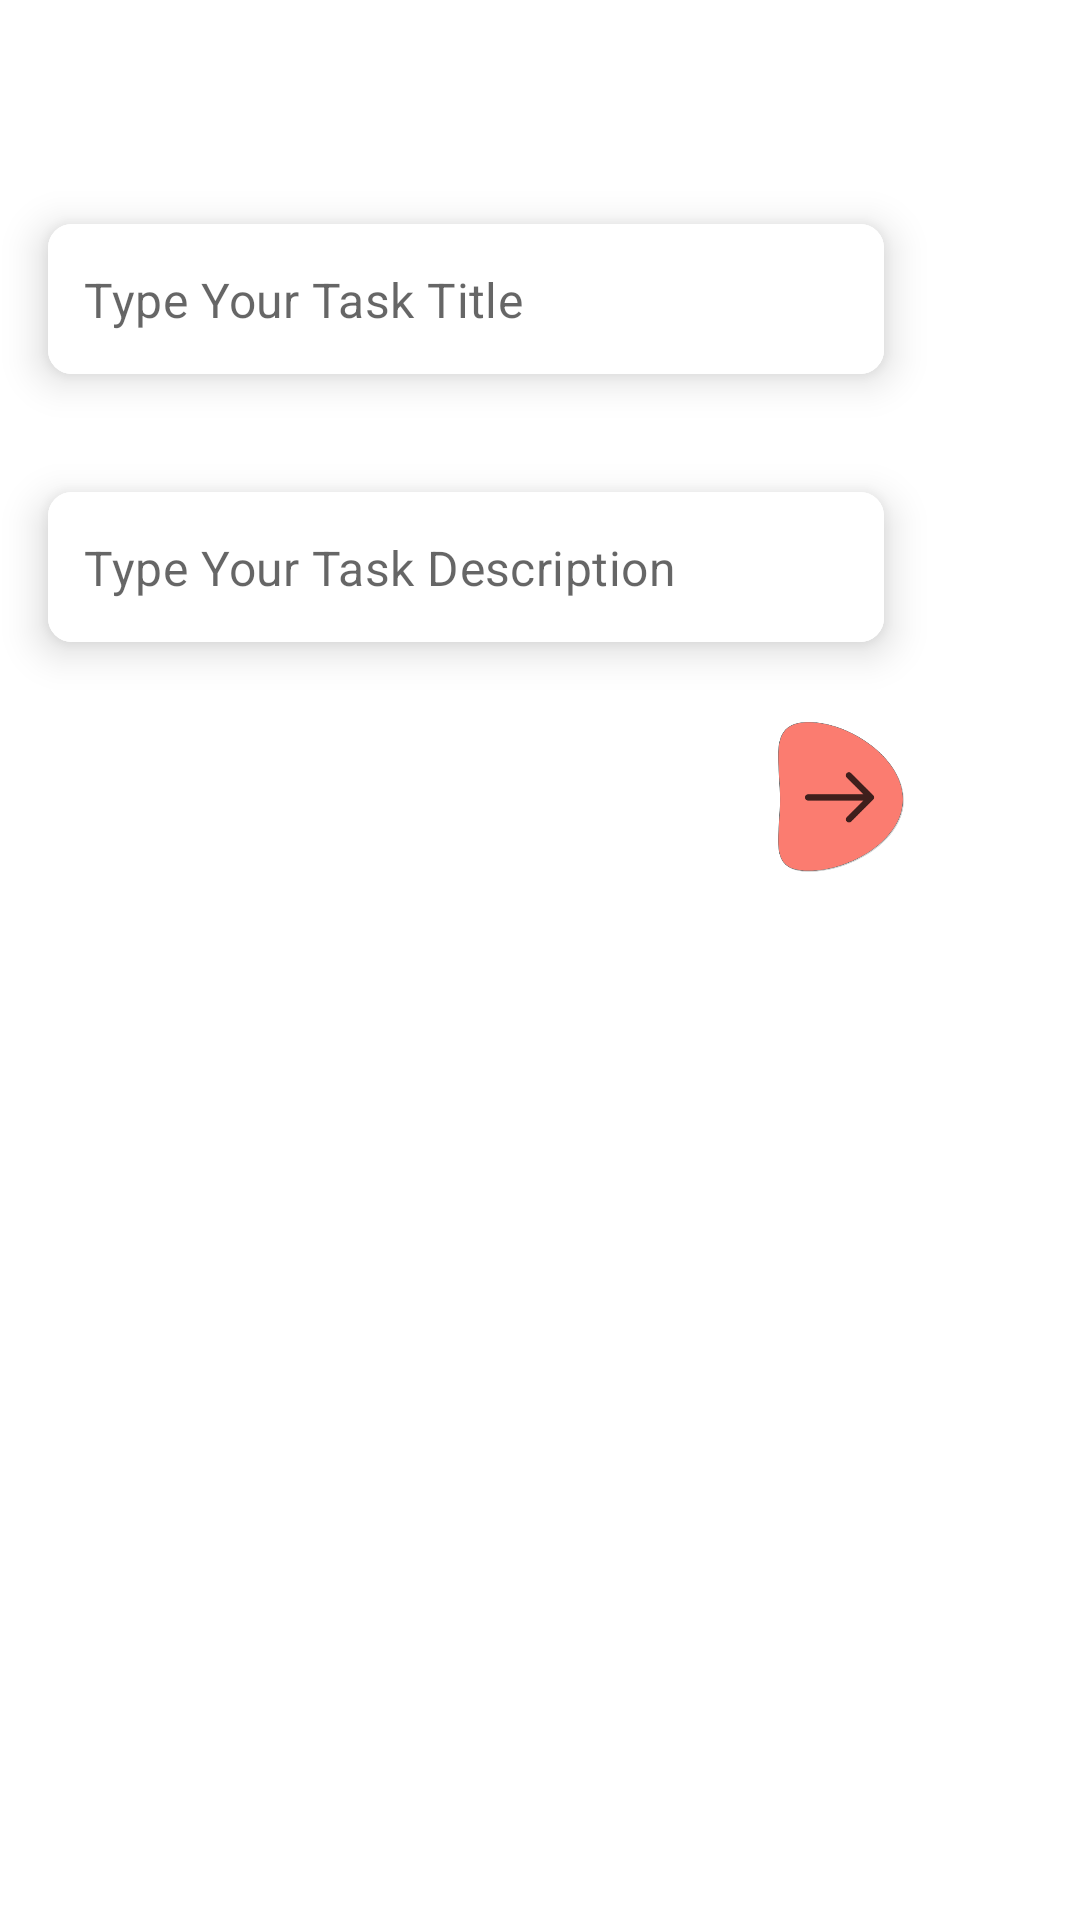

Icon click points for this 1080*1920 phone screenshot, format (x,y):
next: (841,797)
